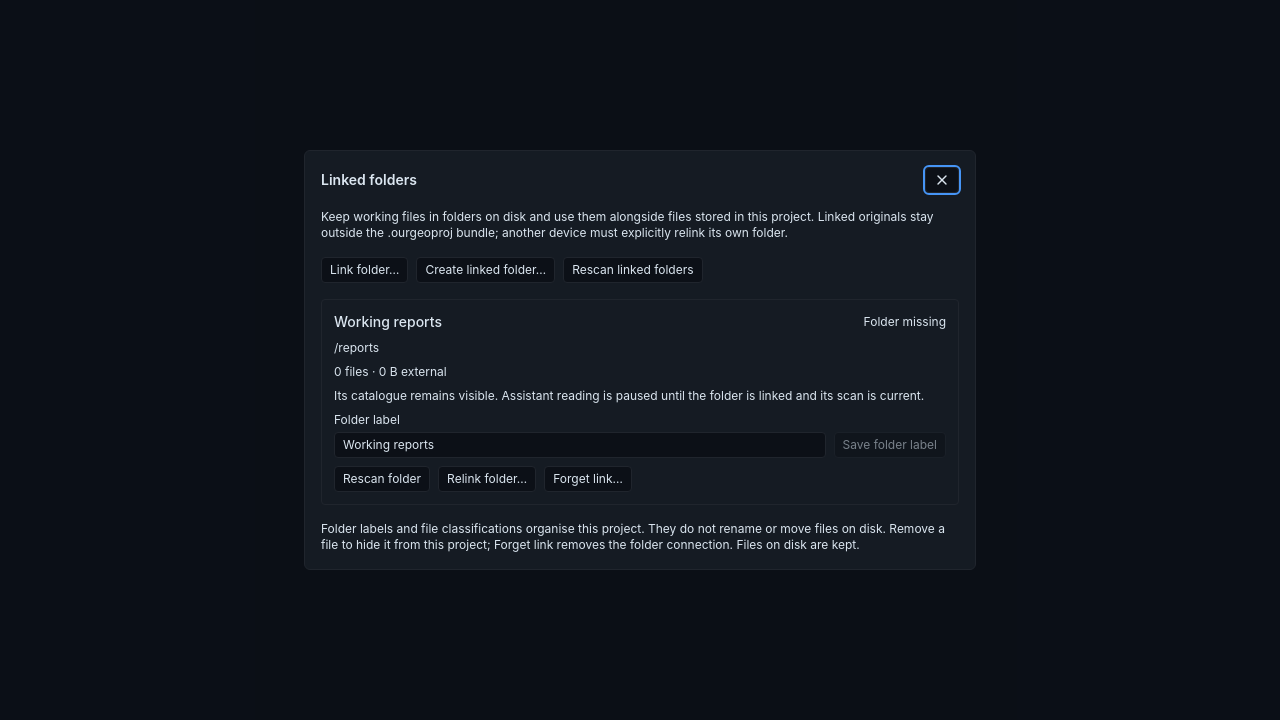
offers missing-folder recovery without hiding its local location or implying originals are embedded
The image size is (1280, 720).
Expected: the text "Folder missing" is shown, [864,314,946,330]
Expected: the text "/reports" is shown, [334,340,379,355]
Click the button "Relink folder…" at (487, 479), box [438,466,536,492]
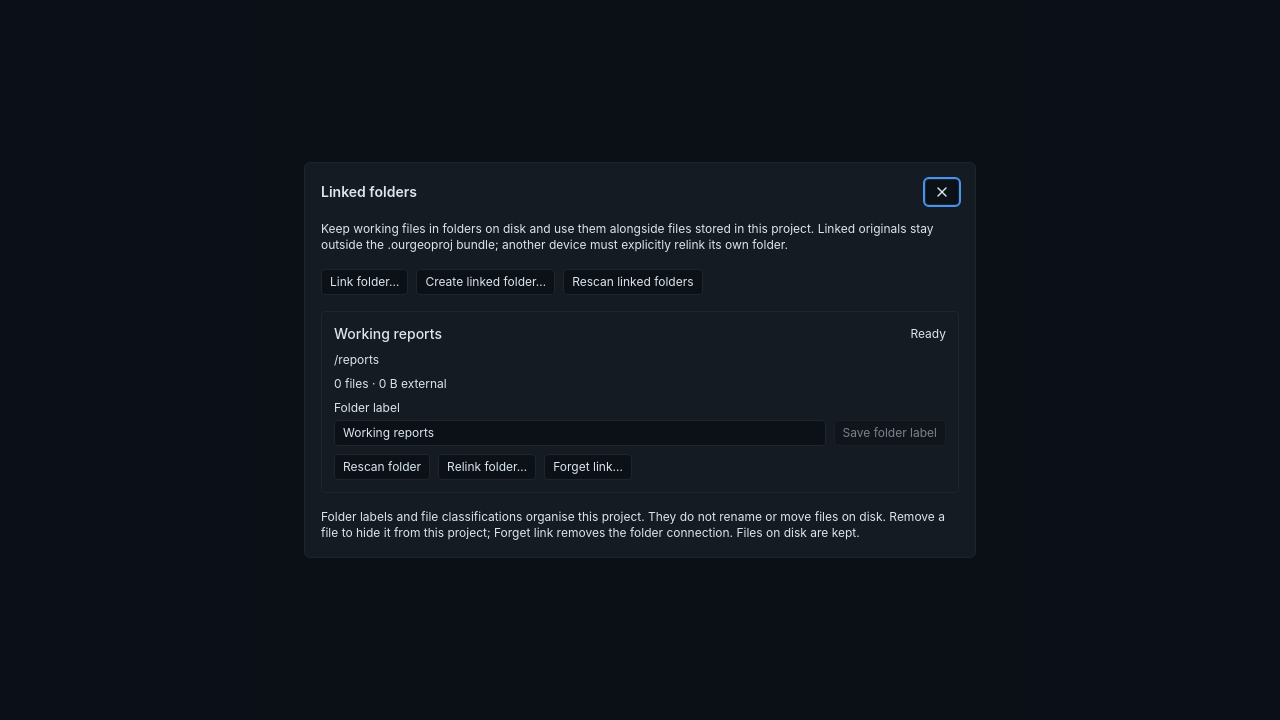
Expected: the text "Ready" is shown, [910,326,946,342]
